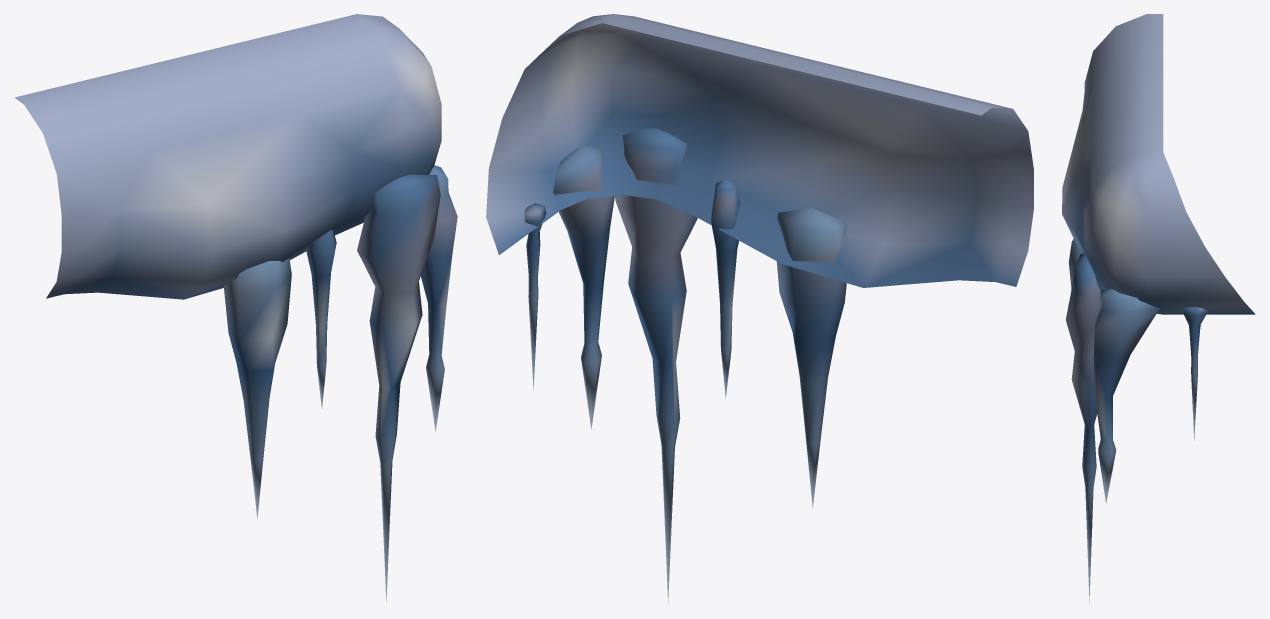
File: Surface_Corner.fbx
The picture shows the model from 3 angles, left to right: view 1: azimuth 30°, elevation 25°; view 2: azimuth 150°, elevation 25°; view 3: azimuth 270°, elevation 25°; orthographic projection. The views are drawn at different scales.
Visible parts, largest first — view 1: Surface_Corner; view 2: Surface_Corner; view 3: Surface_Corner.
Boxes of the visible parts, x1=… form: Surface_Corner: x1=14, y1=14, x2=457, y2=602; Surface_Corner: x1=486, y1=14, x2=1033, y2=604; Surface_Corner: x1=1062, y1=14, x2=1255, y2=603.
Bounding box in the file's own units: 2157 × 2772 × 1061.
